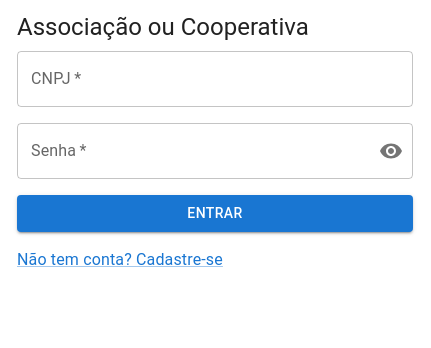
it: OrganizacaoLoginPage › shows an error message on invalid credentials
This screenshot has width=431, height=348.
Type "12345678000199" into the field labelled "CNPJ *" at (215, 79), box [17,51,413,107]
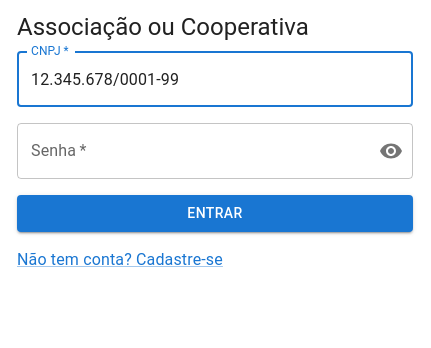
Type "senha-errada" into the password field labelled "Senha *" at (190, 151), box [17,123,363,179]
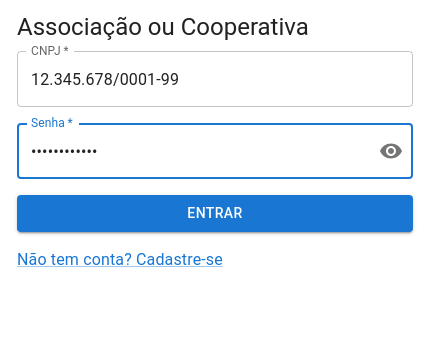
Click the button "Entrar" at (215, 214), box [17,195,413,232]
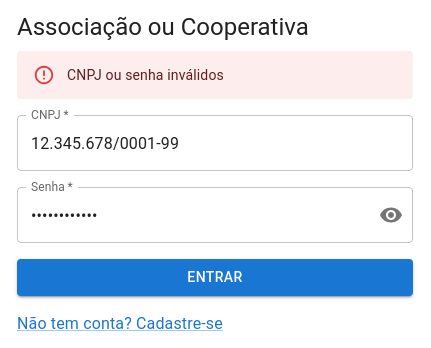
Expected: the text "CNPJ ou senha inválidos" is shown, [67,67,224,83]
